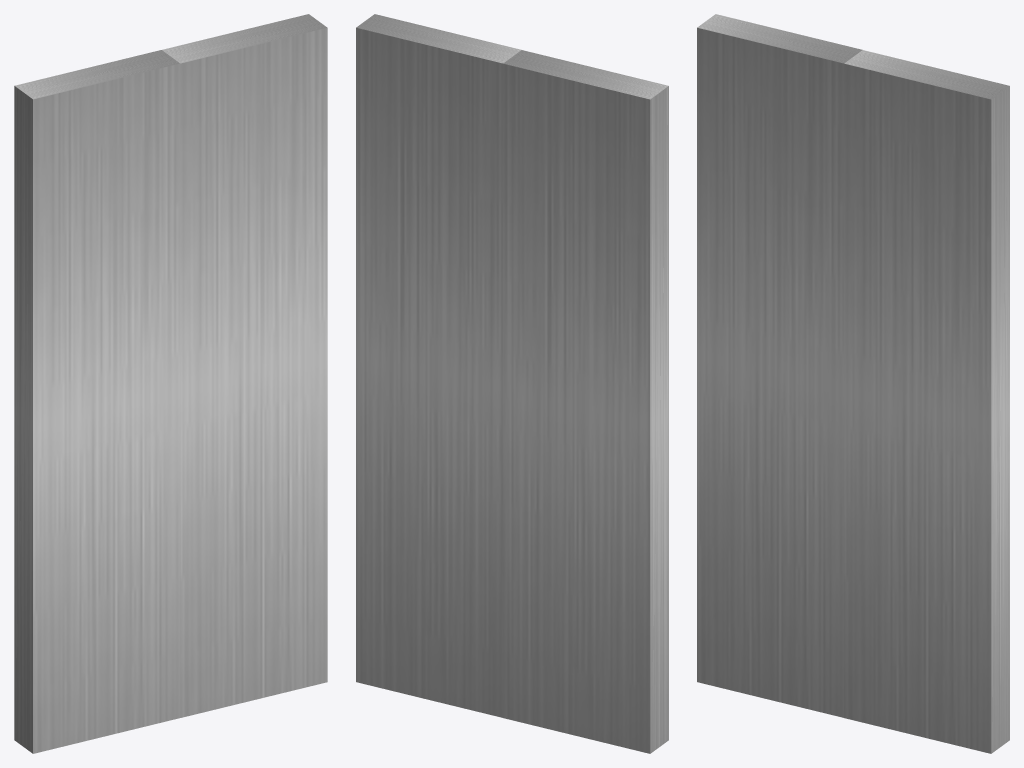
Rendered from ElevatorDoors.fbx.
3 views of the same model, side by side, from view 1: azimuth 30°, elevation 25°; view 2: azimuth 150°, elevation 25°; view 3: azimuth 330°, elevation 25° (orthographic).
Parts seen in each view (by area): view 1: Cube.009, Cube.006; view 2: Cube.009, Cube.006; view 3: Cube.006, Cube.009.
Part boxes in pixels (x1,y1,x2,y2): Cube.009: (14,50,180,753); Cube.006: (162,14,327,717); Cube.009: (503,50,668,753); Cube.006: (356,14,521,717); Cube.006: (844,50,1009,753); Cube.009: (697,14,862,717).
Bounding box in the file's own units: 80 × 170 × 8.84.
Materials: 1 (1 with a texture image).
